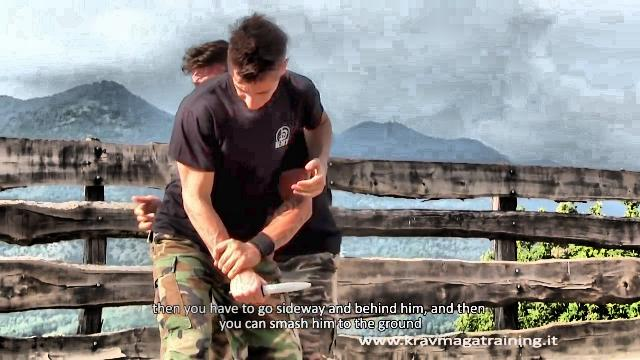knife: (227, 272, 319, 308)
